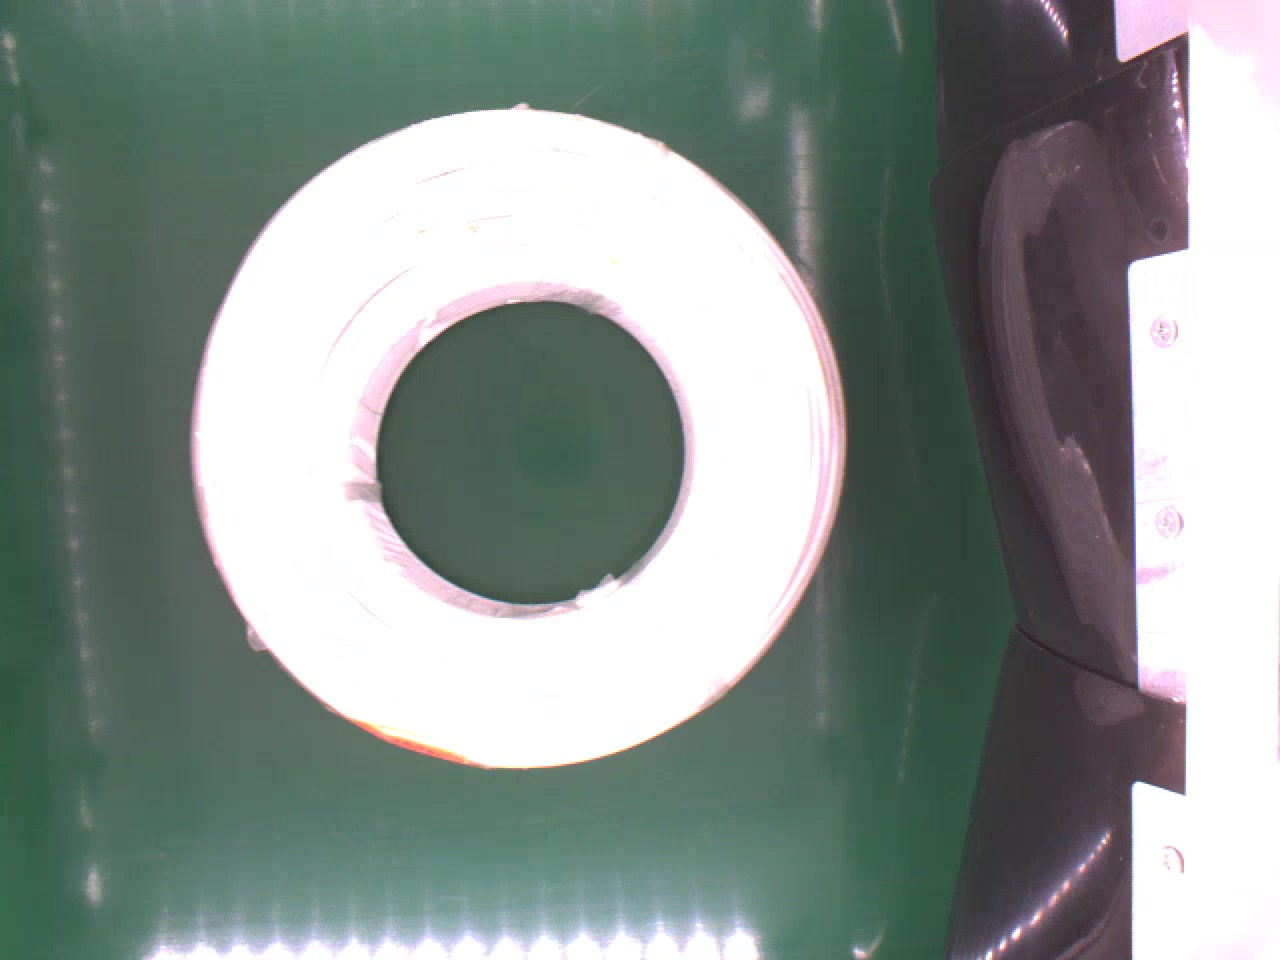white: (189, 94, 855, 779)
